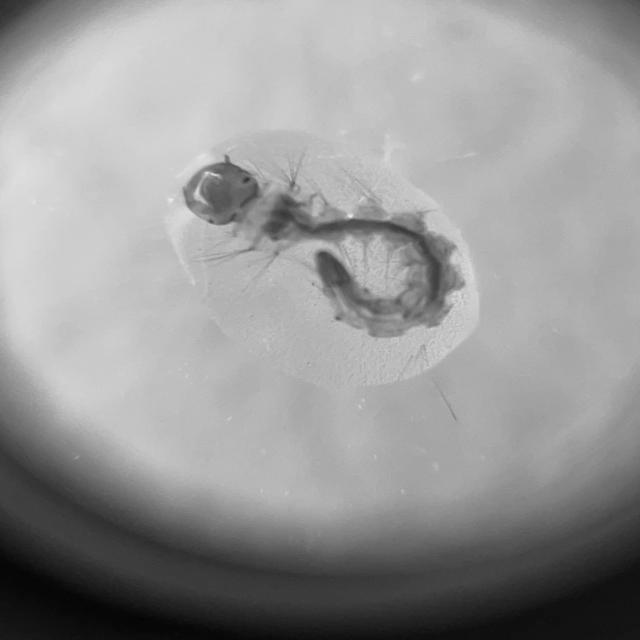larvas: (190, 140, 468, 342)
